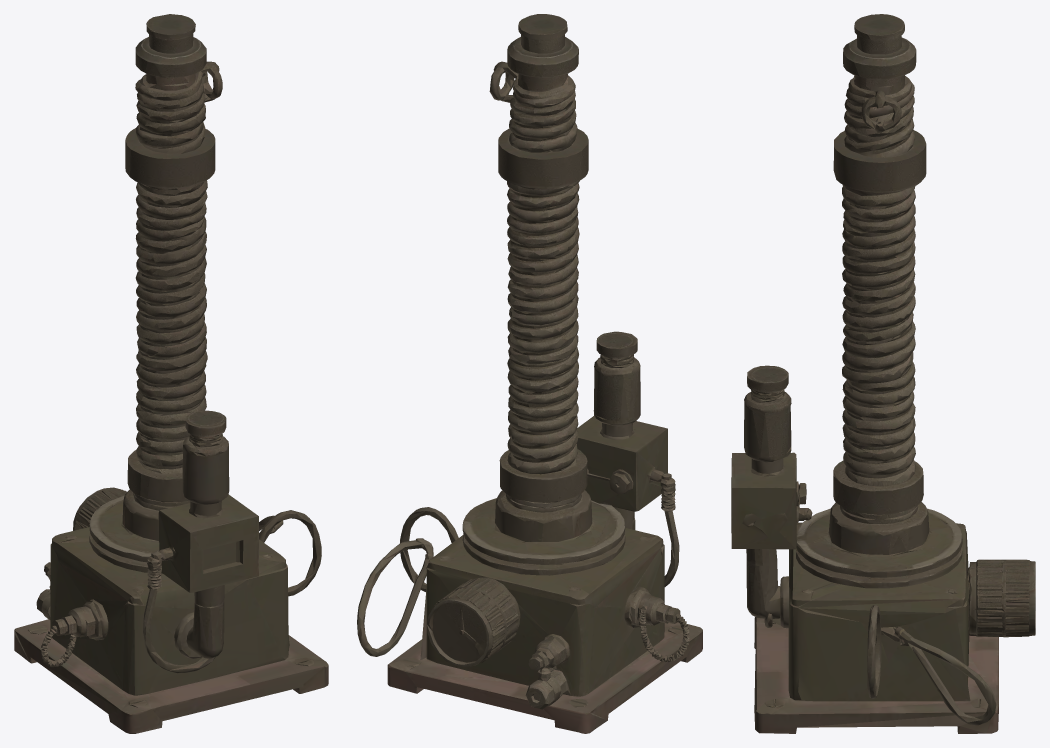
File: tower_tesla.glb
3 views of the same model, side by side, from view 1: azimuth 30°, elevation 25°; view 2: azimuth 150°, elevation 25°; view 3: azimuth 270°, elevation 25° (orthographic). The views are drawn at different scales.
Visible parts, largest first — view 1: tower_tesla; view 2: tower_tesla; view 3: tower_tesla.
Part boxes in pixels (x1,y1,x2,y2): tower_tesla: (14,14,328,733); tower_tesla: (357,14,702,733); tower_tesla: (731,14,1035,733).
Size of the model in its own units: 0.5786 by 1.25 by 0.5228.
Materials: 1 (1 with a texture image).
